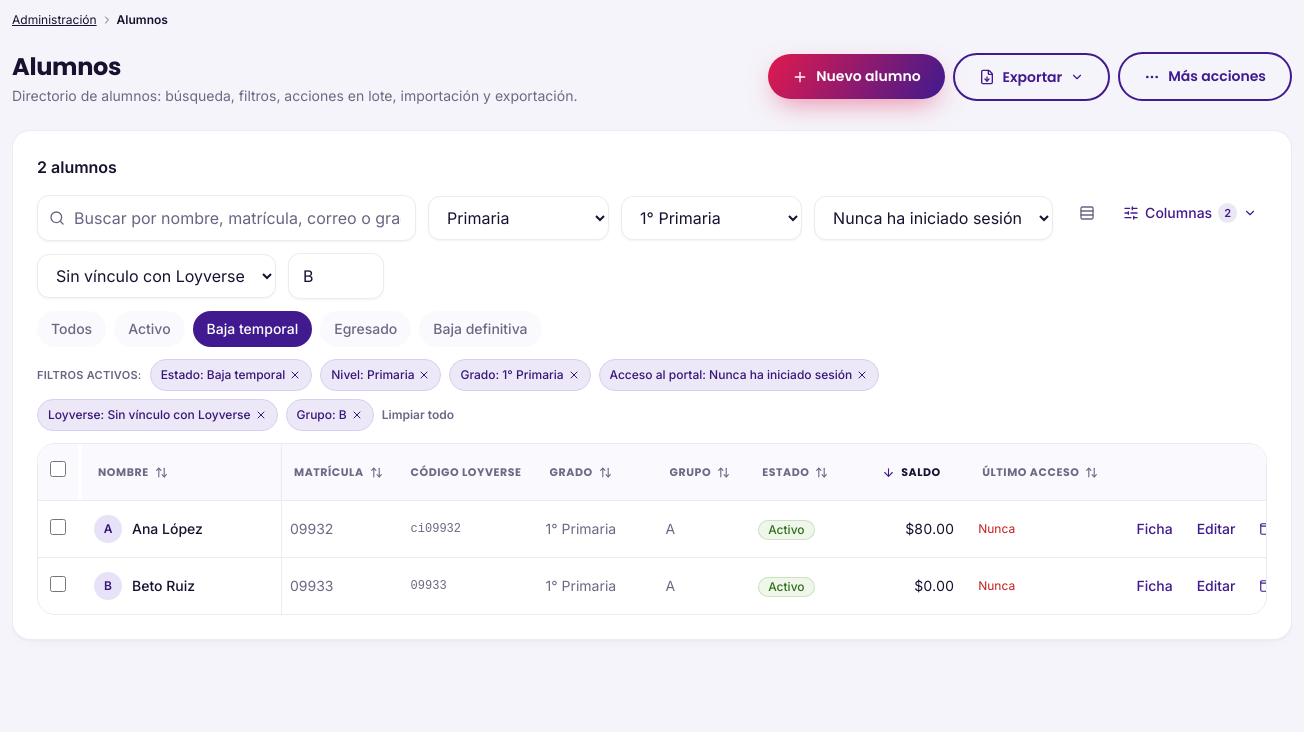
Test: AdminStudents on DataTable v2 (Data Ops Phase 3) › maps the URL vocabulary onto the list contract and marks the sorted column
Expected: the link "Ana López" is shown, [132,519,203,539]
Expected: the text "ci09932" is shown, [399,500,534,558]
Click the button "Columnas 2": (1190, 213) [1113,195,1267,231]
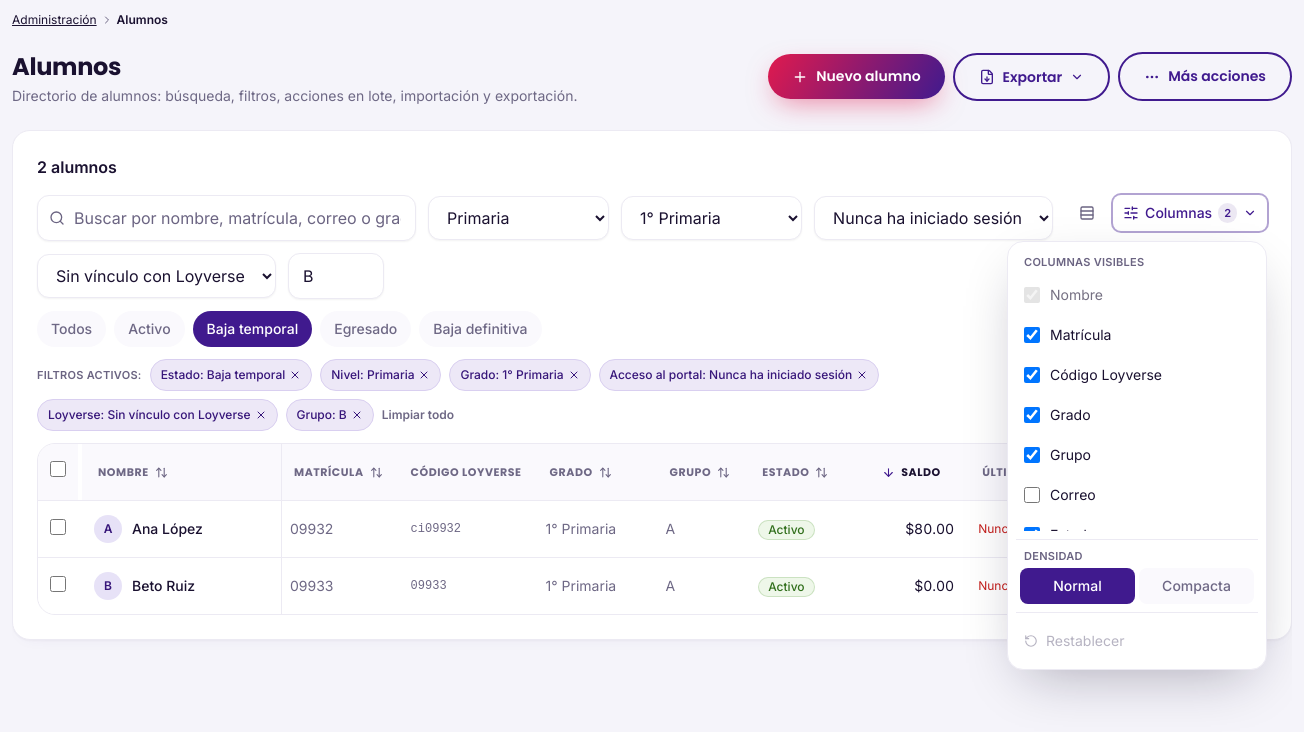
Click the checkbox labelled "Correo": (1032, 494) [1024,486,1040,502]
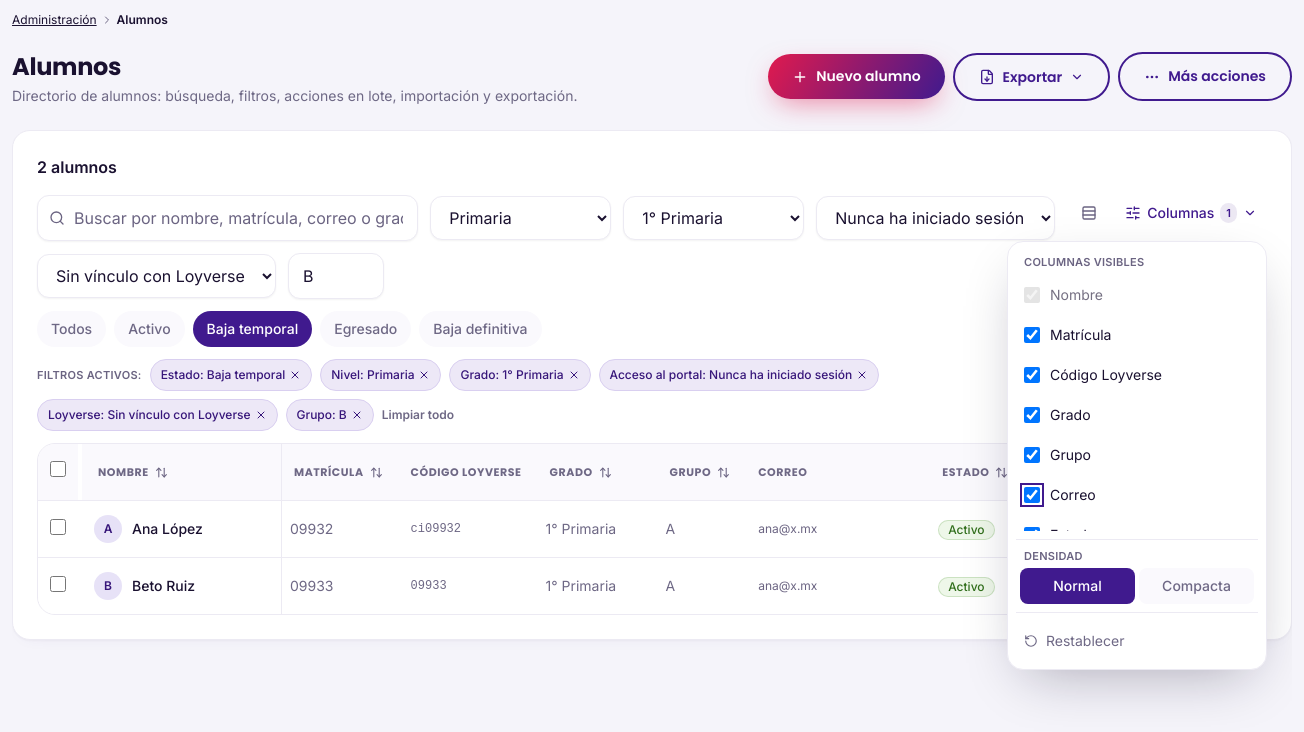
Result: the column heading "Correo" is shown at [746,444,926,500]
